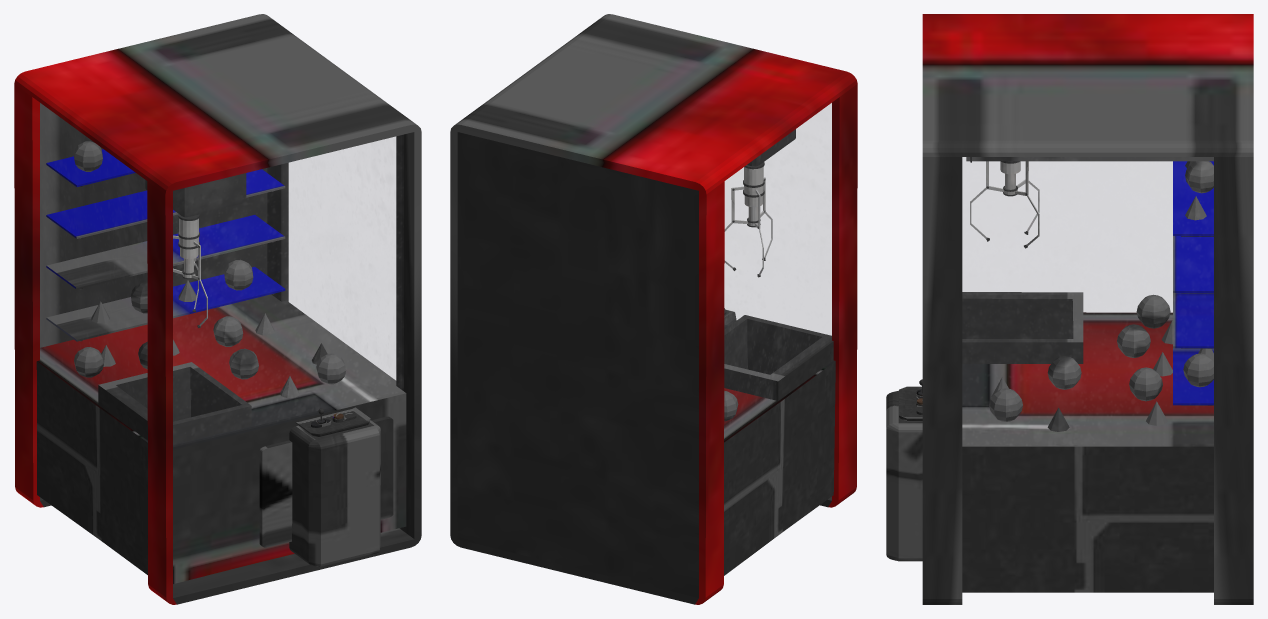
File: gancho.glb
3 views of the same model, side by side, from view 1: azimuth 30°, elevation 25°; view 2: azimuth 150°, elevation 25°; view 3: azimuth 270°, elevation 25° (orthographic). The views are drawn at different scales.
Visible parts, largest first — view 1: maquina; view 2: maquina; view 3: maquina.
Part boxes in pixels (x1=…): maquina: x1=14, y1=14, x2=421, y2=604; maquina: x1=450, y1=14, x2=857, y2=604; maquina: x1=886, y1=14, x2=1253, y2=604.
Bounding box in the file's own units: 1.21 × 1.9 × 1.37.
3 materials, 3 textured.
